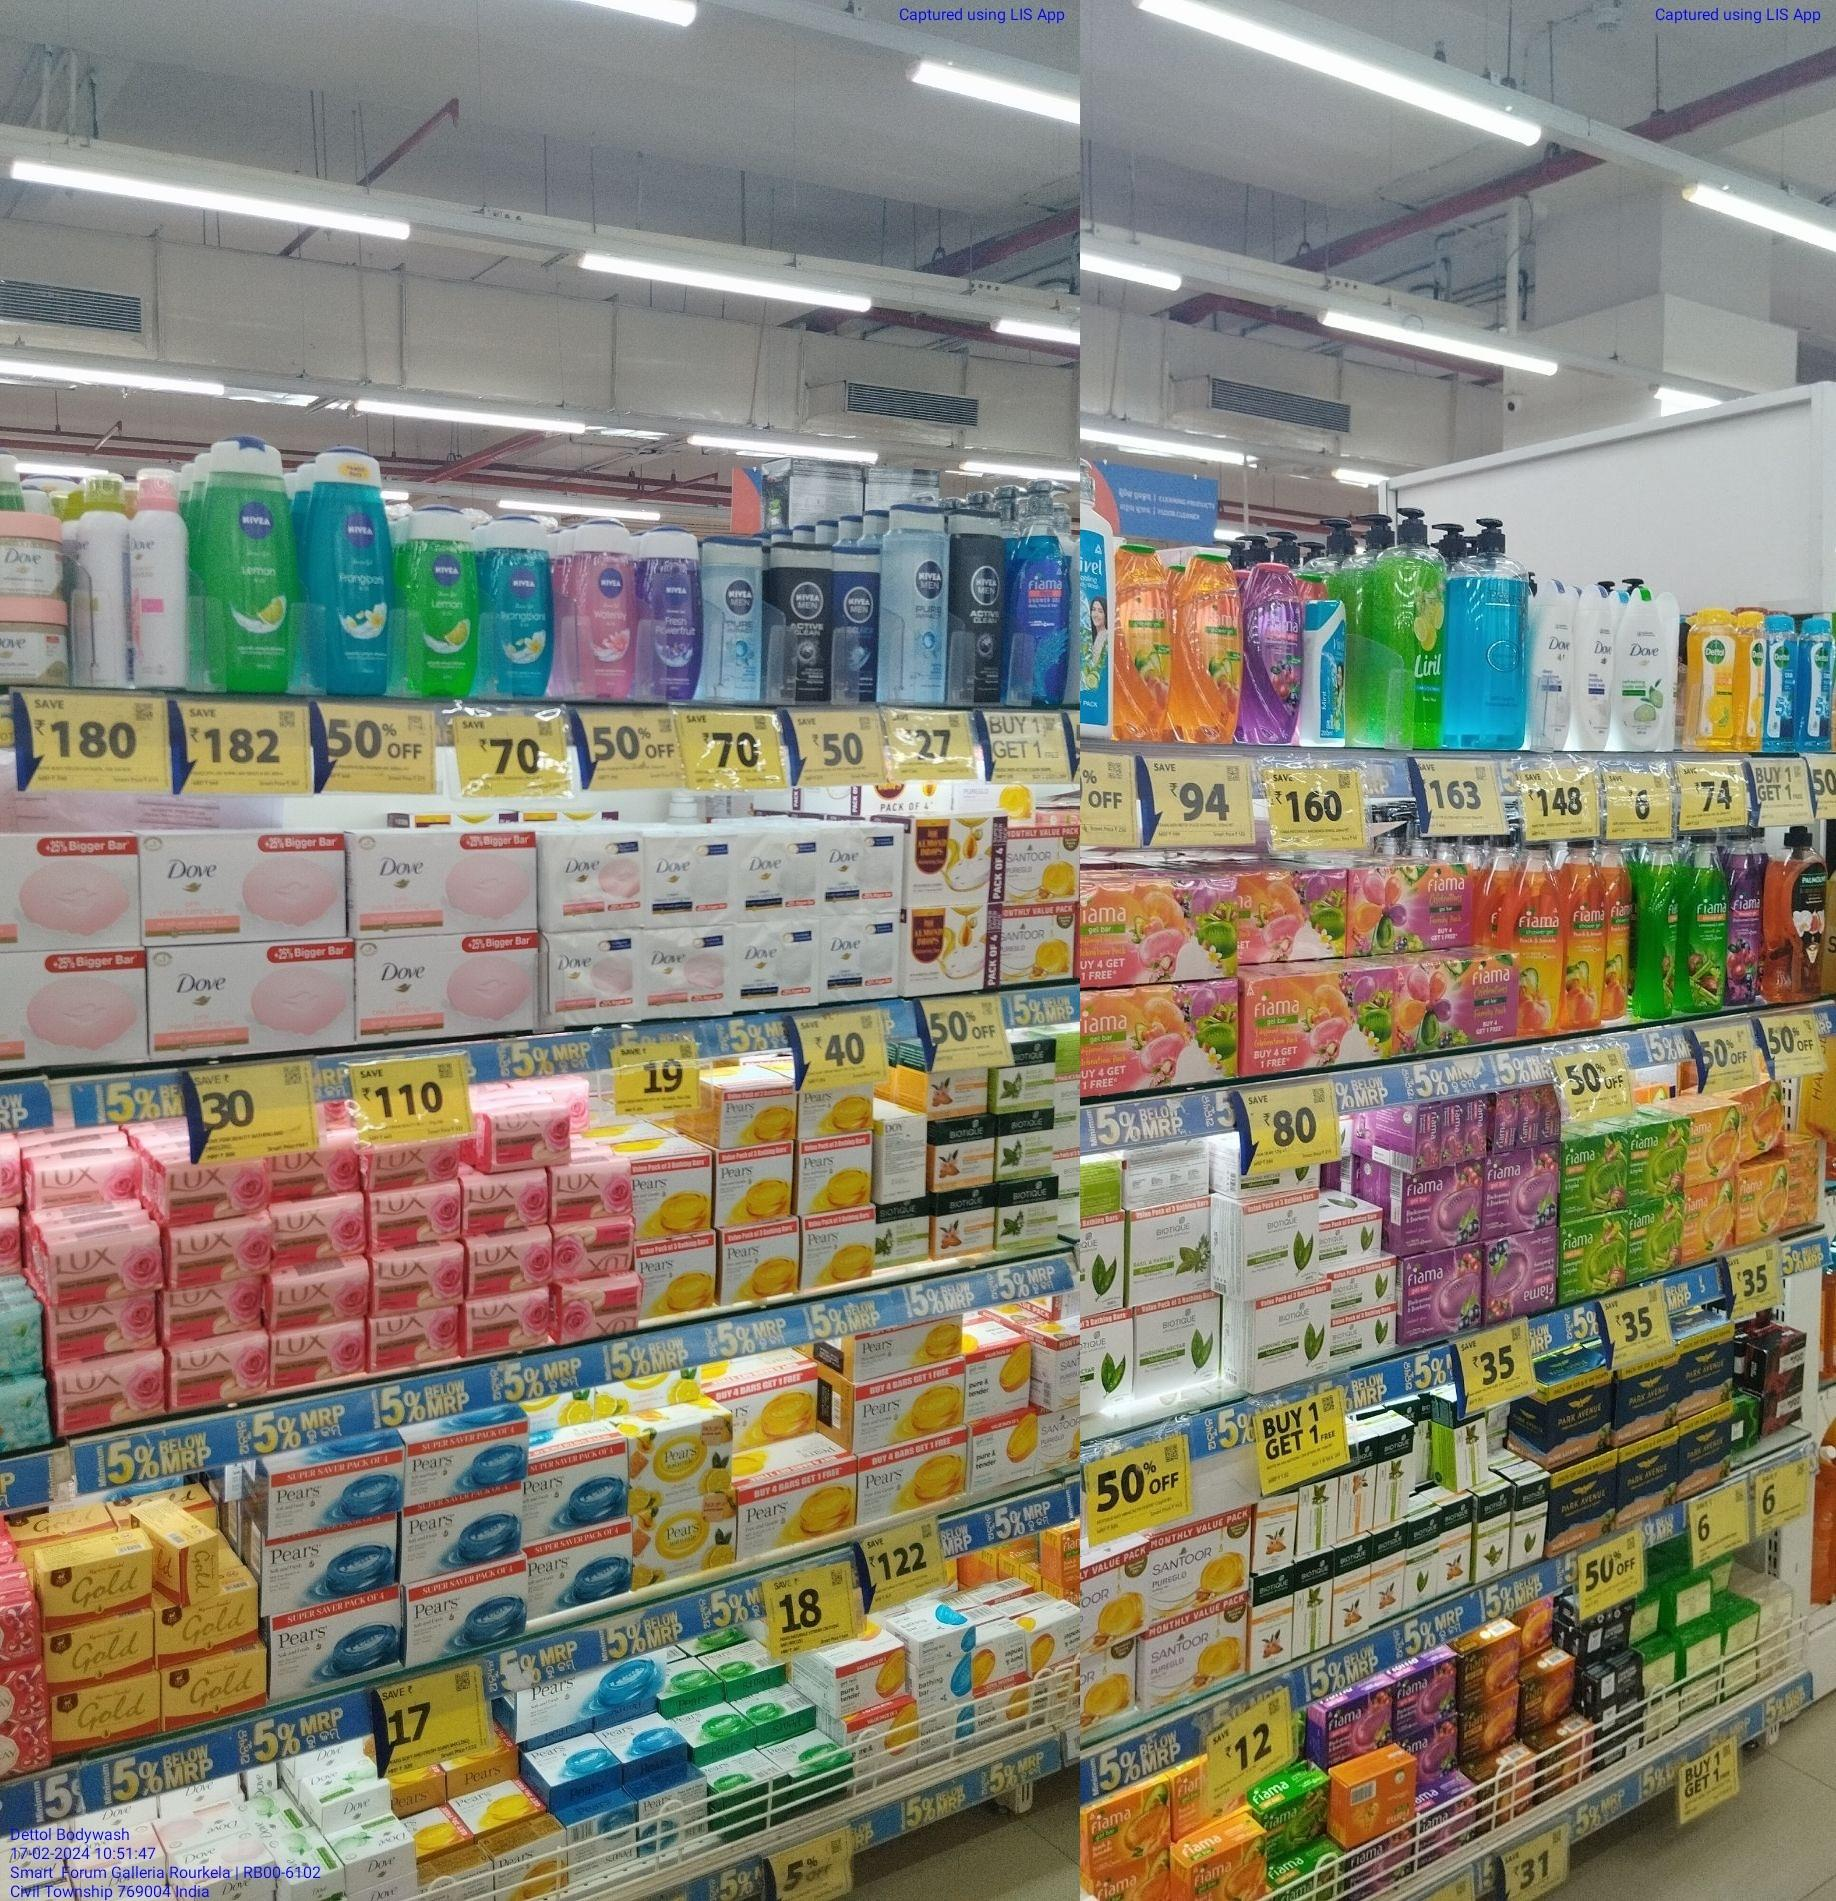Dettol_Bodywash_Cool: (1768, 613, 1797, 757), (1805, 618, 1834, 754)
Dettol_Bodywash_Refresh: (1695, 611, 1738, 750), (1743, 613, 1763, 752)
Dove_Deep_Moisture_Body_Wash_250ML: (1536, 580, 1573, 754), (1578, 586, 1610, 754)
Dove_Refreshing_Body_Wash_250ML: (1615, 591, 1666, 750)
Fiama_Shower_Gel_Peach_and_Avocado_250ML: (1183, 553, 1240, 745), (1117, 543, 1171, 743)
Nivea_Shower_Gel_Frangipani_and_Oil_250ML: (311, 450, 390, 696), (492, 516, 555, 698)
Nivea_Shower_Gel_Fresh_Powerfruit_250ML: (648, 530, 704, 704)
Nivea_Shower_Gel_Lemon_and_Oil_250ML: (205, 440, 292, 686), (407, 506, 477, 699)
Nivea_Shower_Gel_Waterlily_and_Oil_250ML: (570, 518, 636, 704)
